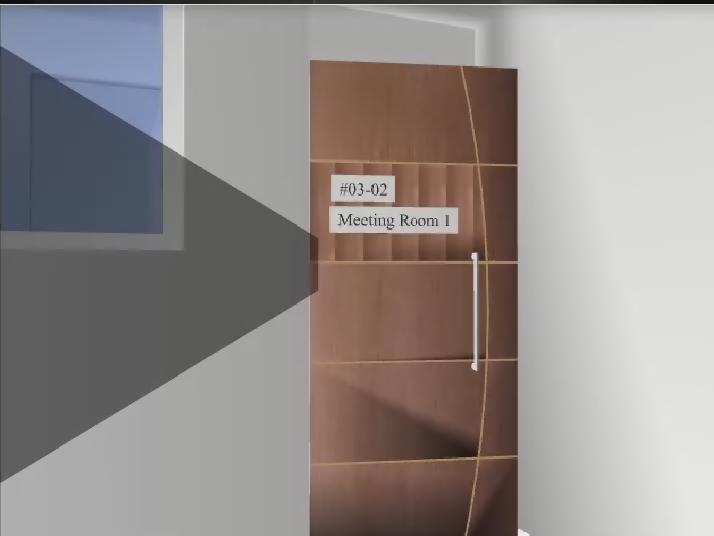door: (311, 60, 519, 536)
